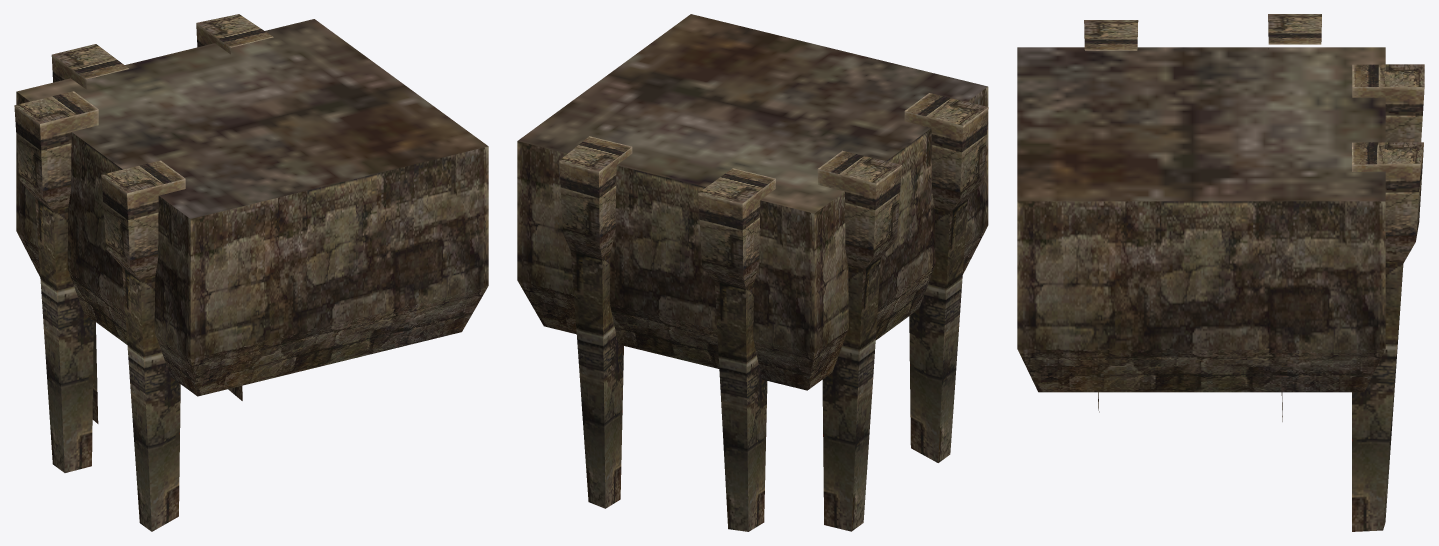
Rendered from OZ_09_wv_T04wall02A.glb.
3 views of the same model, side by side, from view 1: azimuth 30°, elevation 25°; view 2: azimuth 150°, elevation 25°; view 3: azimuth 270°, elevation 25° (orthographic). The views are drawn at different scales.
Parts seen in each view (by area): view 1: OM_09_wv_T04wall02A; view 2: OM_09_wv_T04wall02A; view 3: OM_09_wv_T04wall02A.
Part boxes in pixels (<box>): OM_09_wv_T04wall02A: <box>14,14,488,531</box>; OM_09_wv_T04wall02A: <box>517,14,988,531</box>; OM_09_wv_T04wall02A: <box>1017,14,1424,531</box>.
Size of the model in its own units: 8.11 by 8.59 by 8.2.
Materials: 2 (2 with a texture image).
